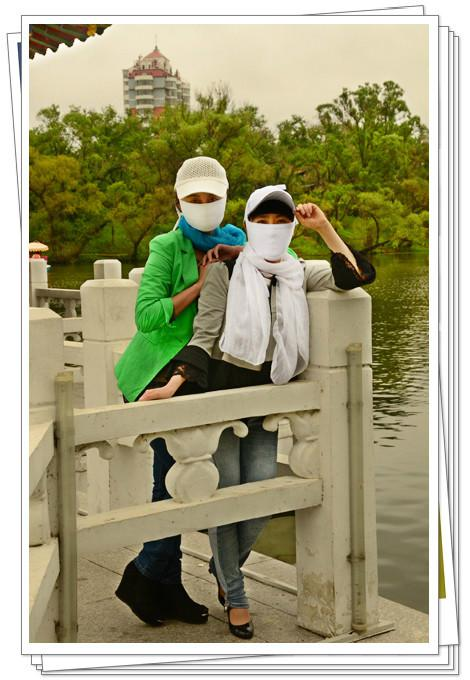OK: (251, 211, 295, 254), (185, 189, 225, 231)
